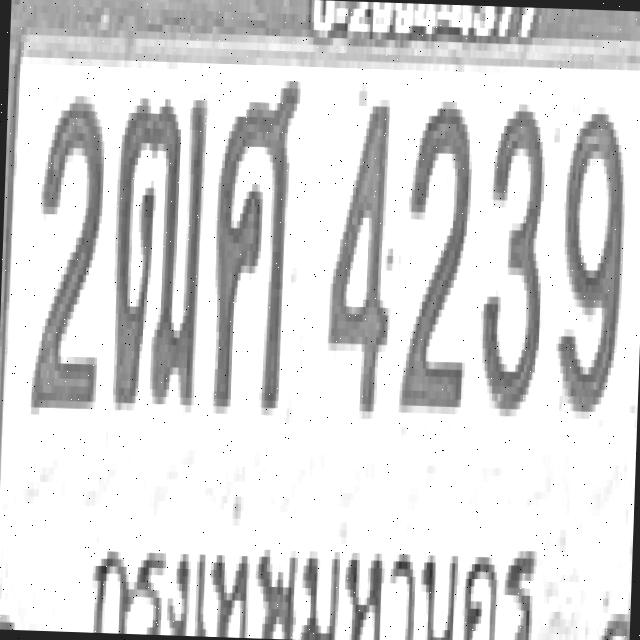2: (398, 96, 474, 411), (30, 90, 104, 405)
27ThorPhuThao: (110, 90, 208, 405)
3: (477, 99, 547, 413)
4: (322, 98, 396, 412)
47SorSala: (208, 74, 298, 412)
9: (554, 105, 627, 412)
